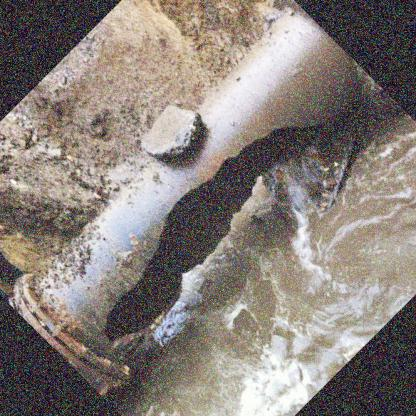burst: (107, 120, 339, 343)
